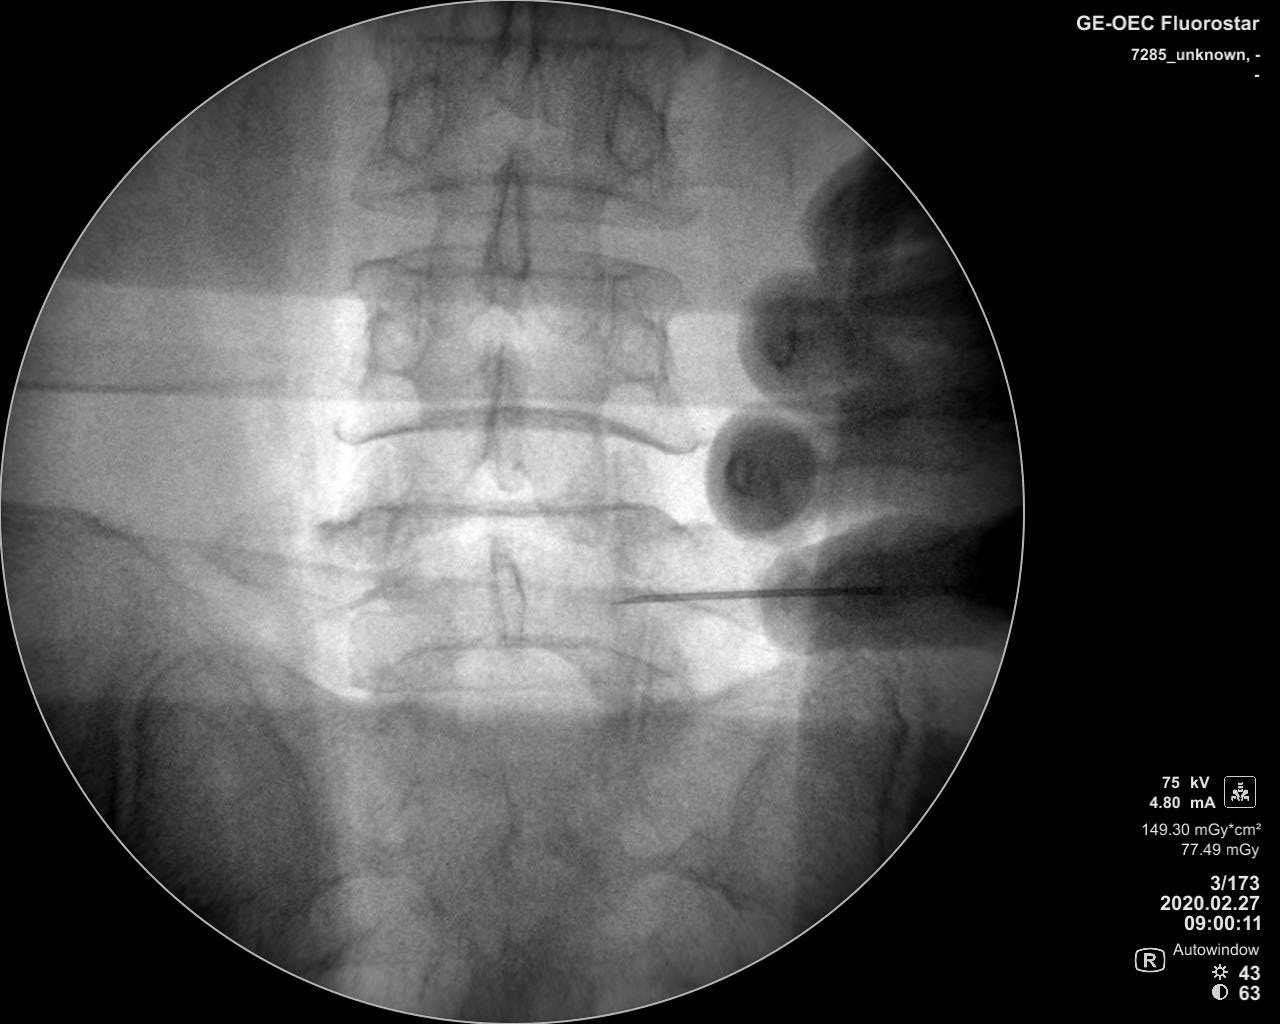eyes: (355, 276, 433, 376), (600, 287, 675, 385), (382, 67, 451, 161), (602, 83, 668, 172)
line: (345, 170, 689, 232), (333, 411, 701, 459), (354, 647, 664, 702), (338, 239, 677, 283), (320, 499, 675, 526), (374, 28, 653, 59)
nose: (469, 157, 532, 324), (478, 336, 531, 492), (487, 1, 543, 130), (480, 538, 534, 656)
